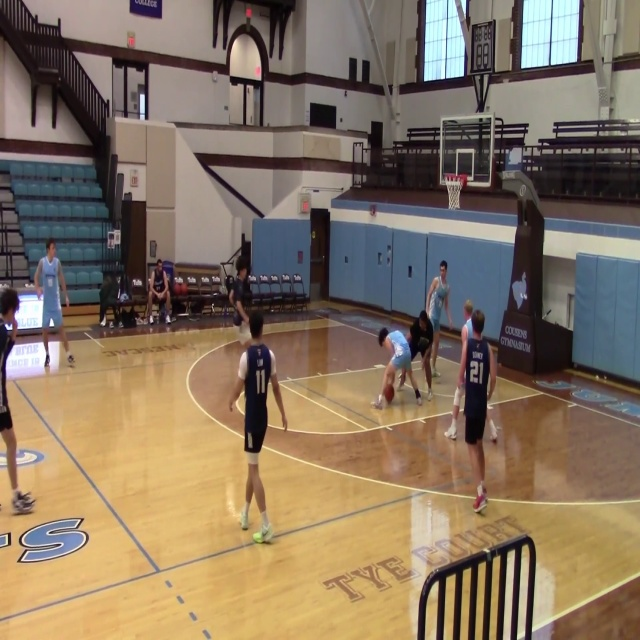Basketball: (172, 281, 188, 296), (383, 384, 394, 402), (173, 283, 188, 296), (418, 337, 430, 348)
